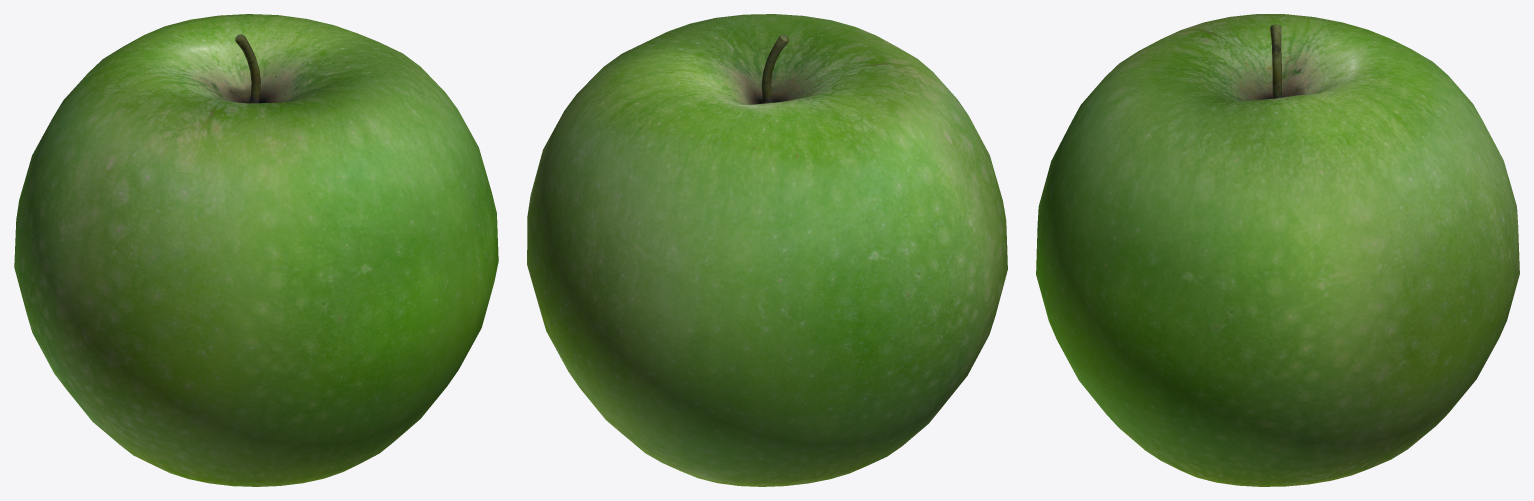
The model's file is apple2.obj.
3 views of the same model, side by side, from view 1: azimuth 30°, elevation 25°; view 2: azimuth 150°, elevation 25°; view 3: azimuth 270°, elevation 25° (orthographic).
Visible parts, largest first — view 1: F04_Green_apple_3; view 2: F04_Green_apple_3; view 3: F04_Green_apple_3.
Part boxes in pixels (x1,y1,x2,y2): F04_Green_apple_3: [14, 14, 498, 486]; F04_Green_apple_3: [527, 14, 1007, 486]; F04_Green_apple_3: [1036, 14, 1519, 486].
Bounding box in the file's own units: 3 × 2.83 × 2.98.
Materials: 1 (1 with a texture image).
